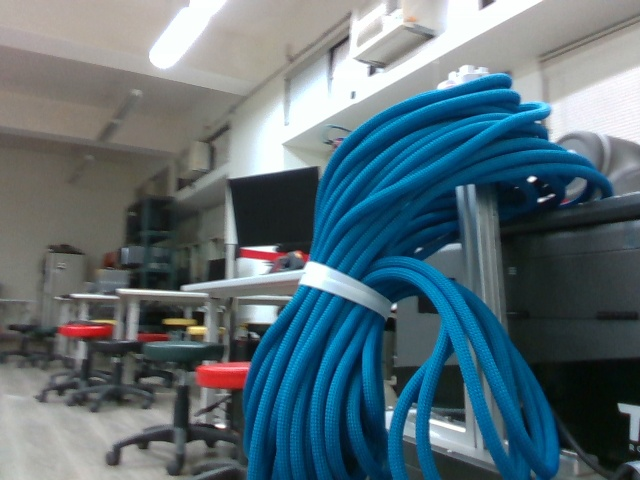rope: (233, 73, 563, 480)
